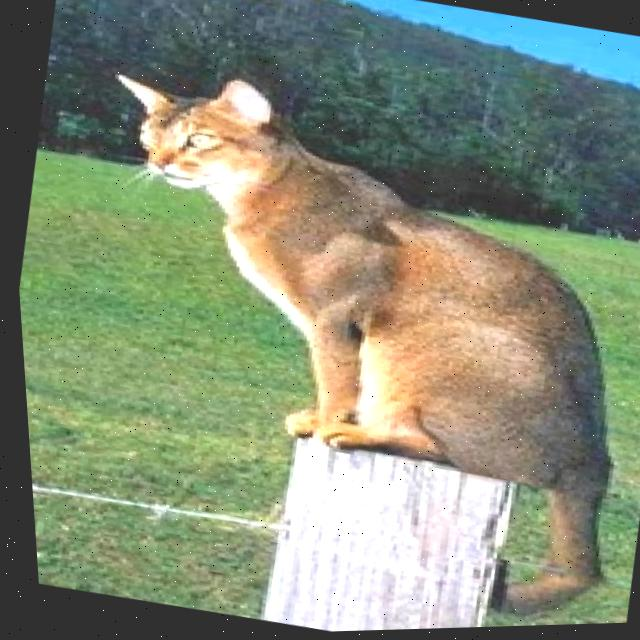Abyssinian: (19, 44, 640, 640)
